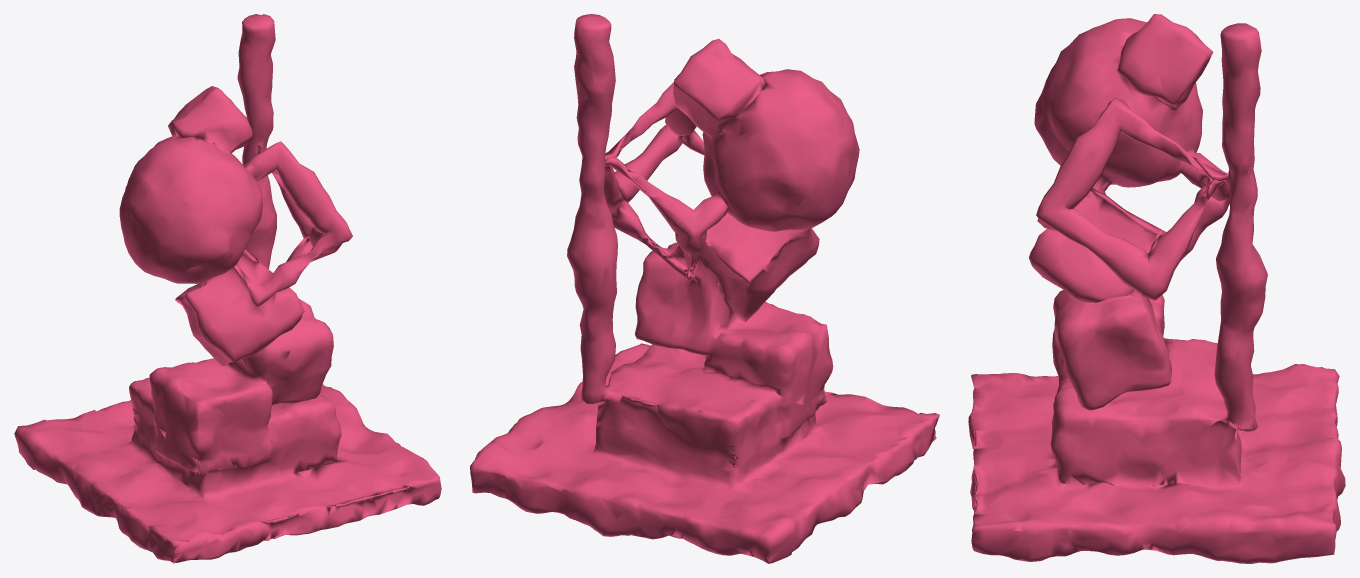
File: TestSculpture.fbx
3 renders of one model, left to right at view 1: azimuth 30°, elevation 25°; view 2: azimuth 150°, elevation 25°; view 3: azimuth 270°, elevation 25°, orthographic. The views are drawn at different scales.
Parts seen in each view (by area): view 1: Cube.007; view 2: Cube.007; view 3: Cube.007.
Part boxes in pixels (x1,y1,x2,y2): Cube.007: [14, 14, 441, 563]; Cube.007: [470, 14, 939, 563]; Cube.007: [968, 14, 1345, 563].
Size of the model in its own units: 3.77 by 3.69 by 5.4.
